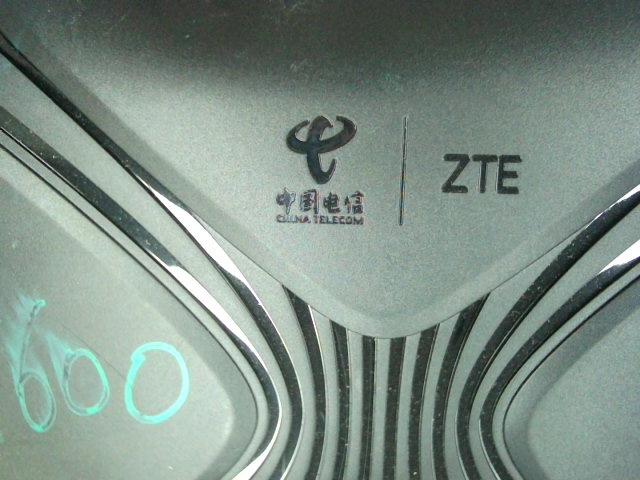AX_ZTEChinaTelecom: (244, 111, 528, 233)
